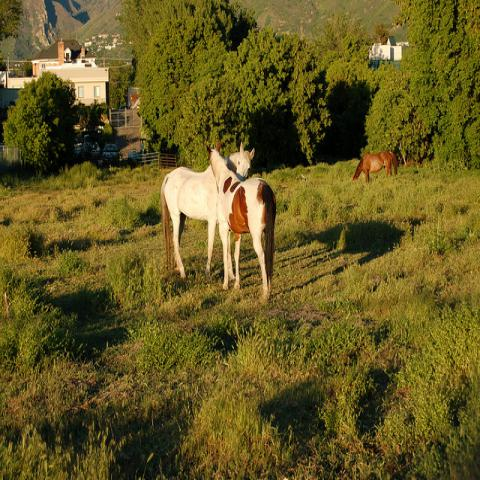car: (102, 143, 118, 157)
